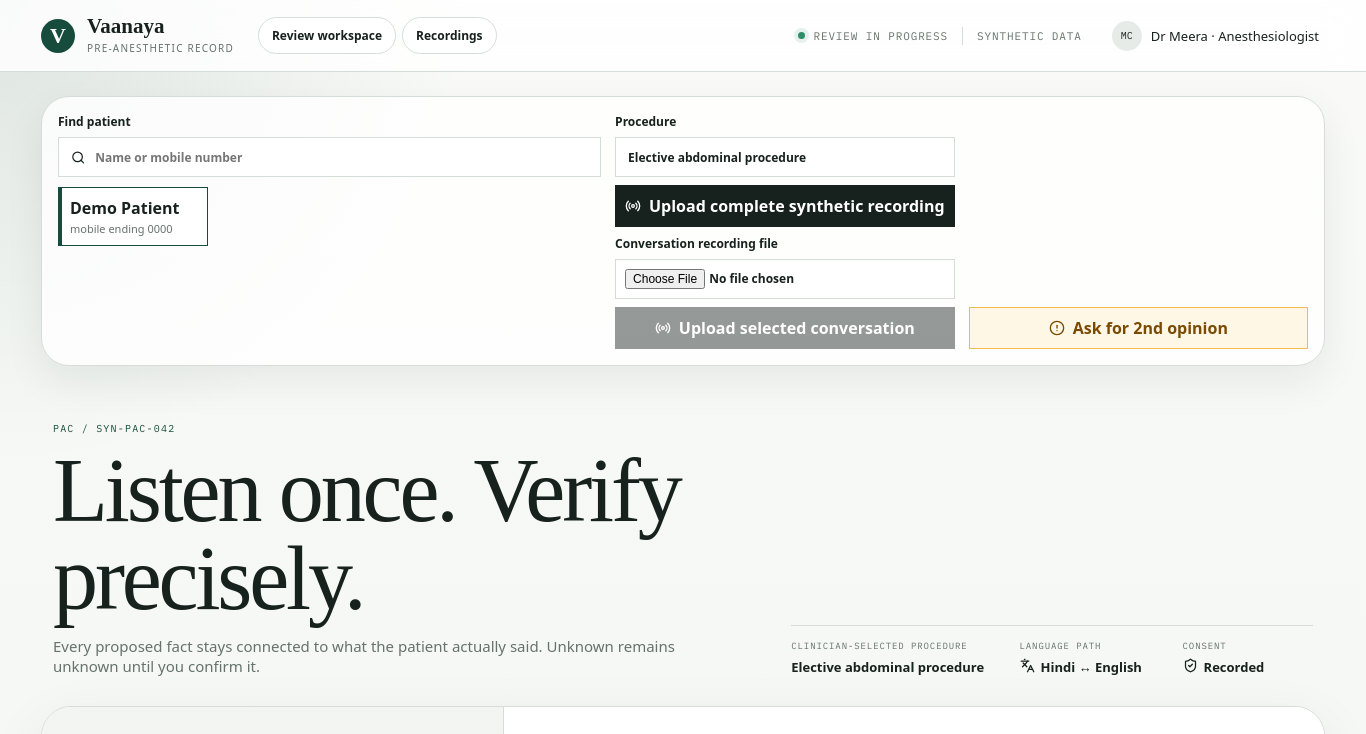
Scenario: PAC review workspace › keeps the loaded encounter patient selectable when patient search is unavailable
Click the button "Demo Patient mobile ending 0000" at (133, 216), box [58,187,208,246]
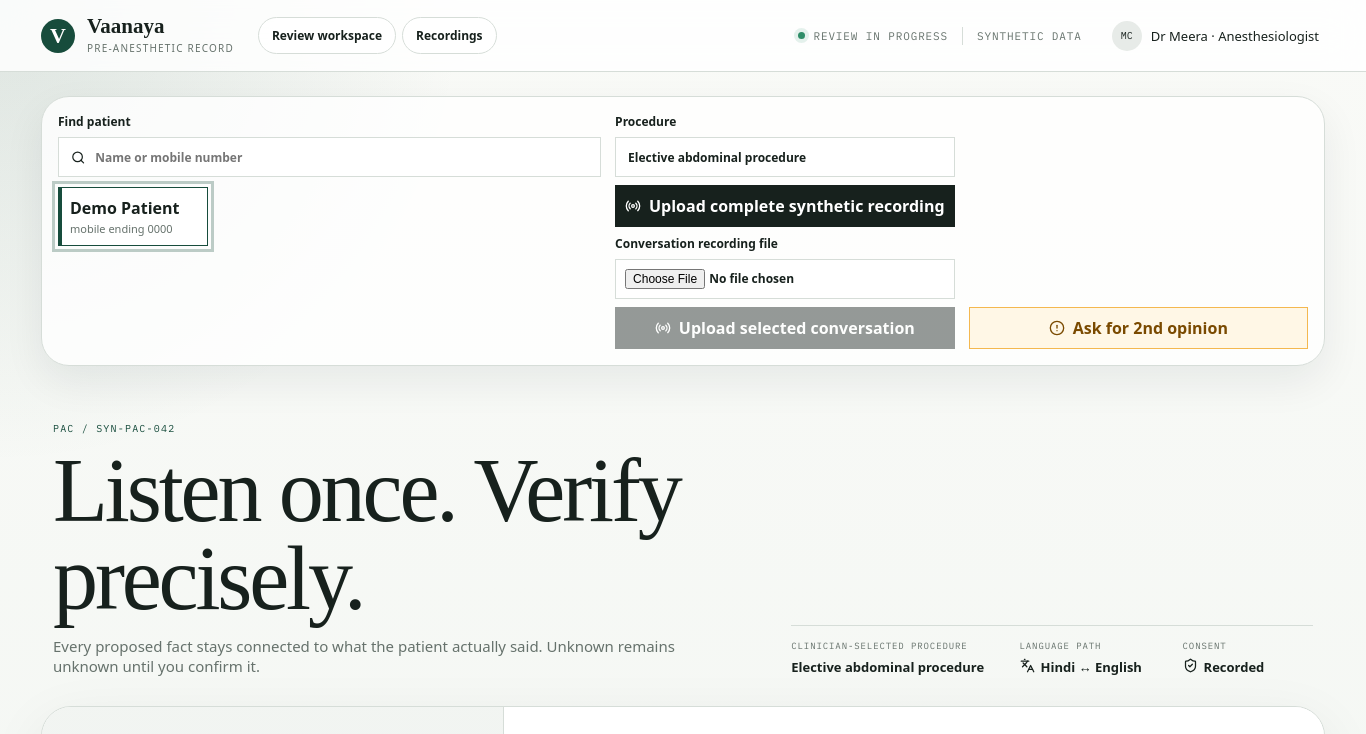
Replace the text in the field labelled "Procedure" with "Elective demo procedure" at (785, 157), box [615,137,955,177]
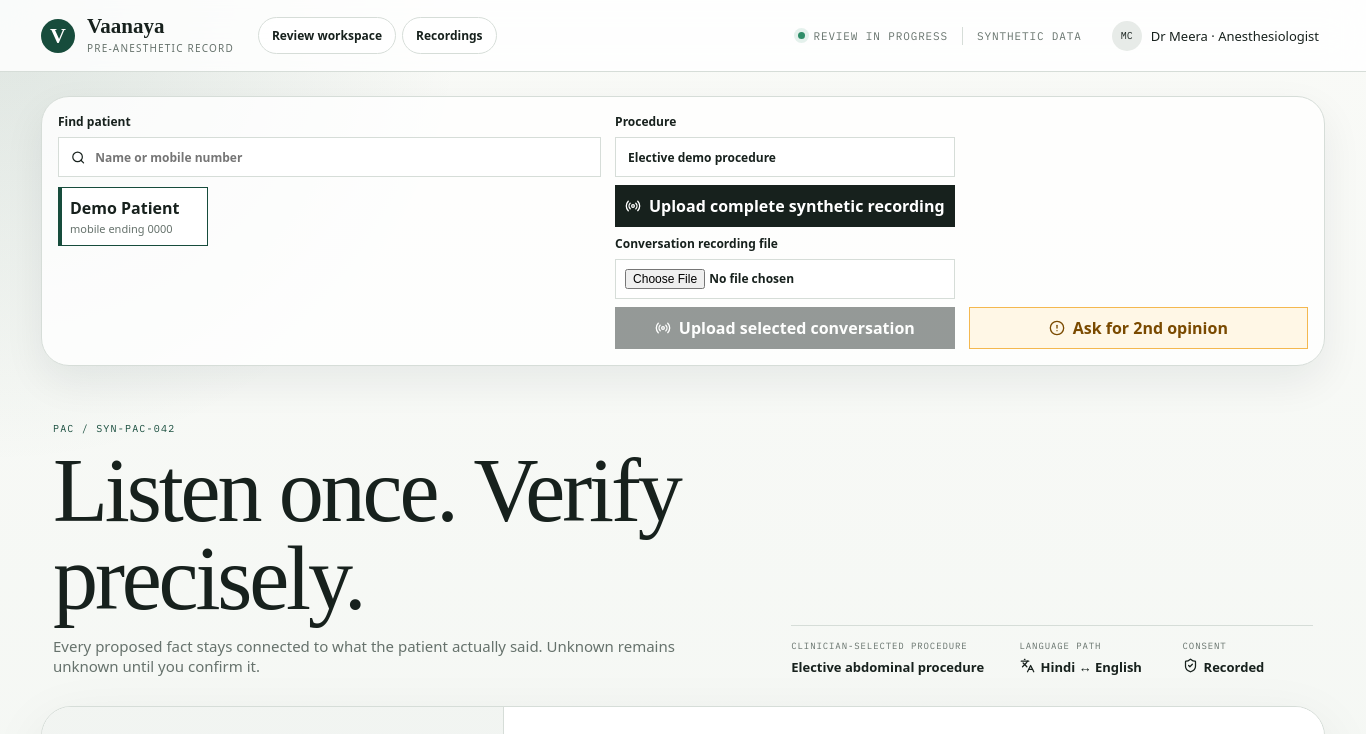
Click the button "Upload complete synthetic recording" at (785, 206), box [615,185,955,227]
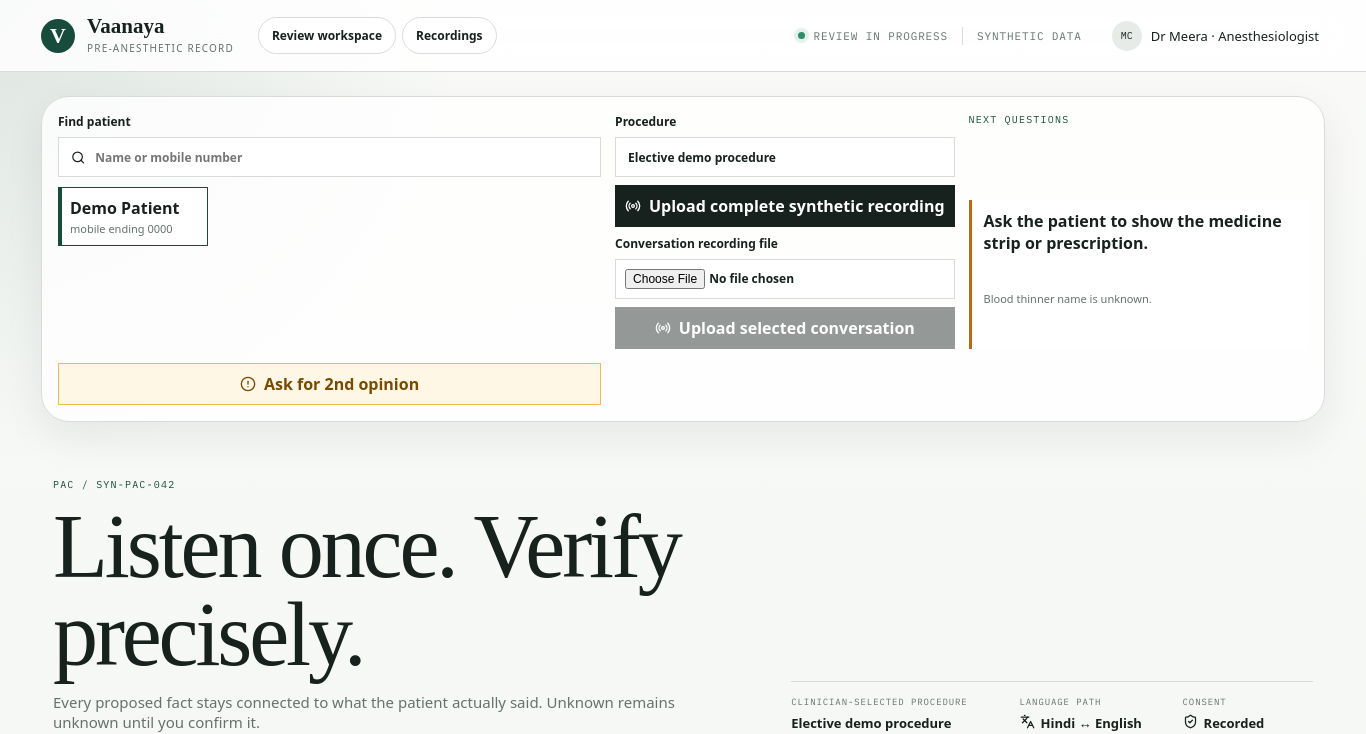
Expected: the text "Ask the patient to show the medicine strip or prescription." is shown, [984,210,1282,254]
